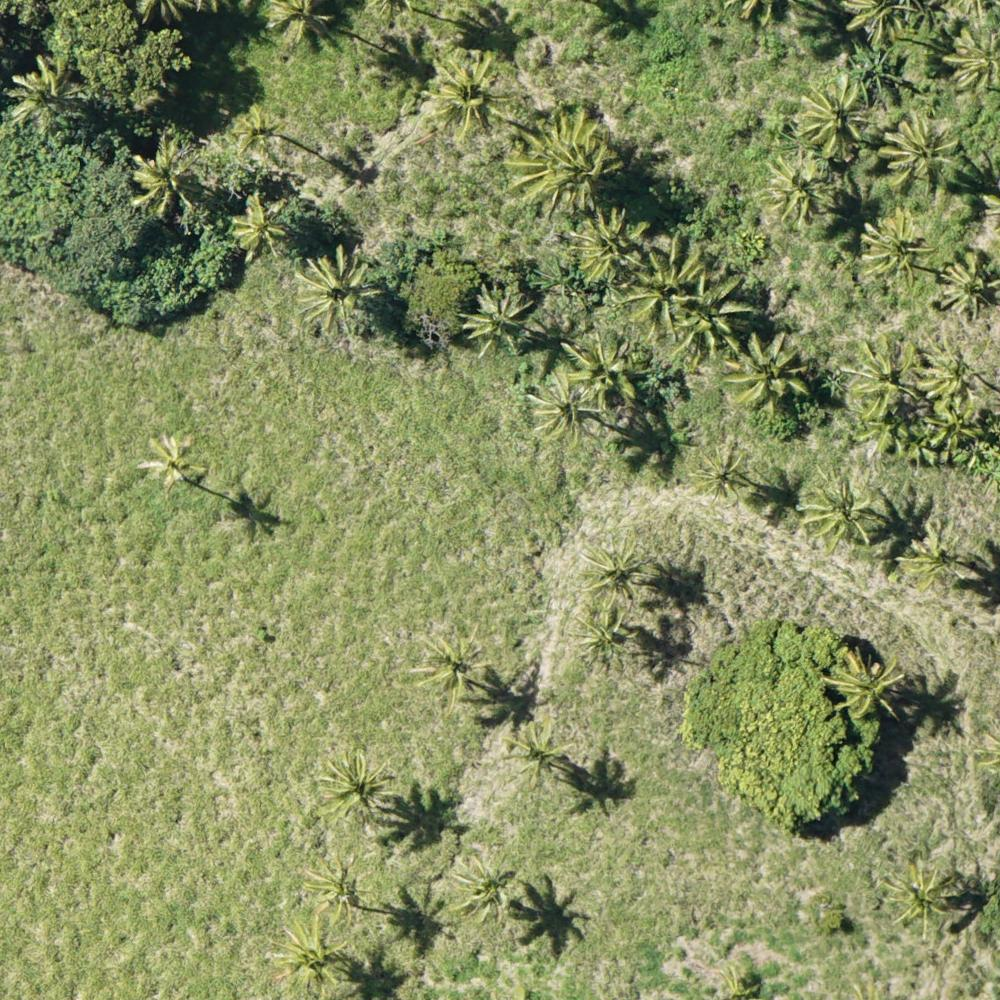Palm: (513, 113, 612, 211), (630, 236, 711, 336), (292, 246, 379, 334), (424, 56, 512, 141), (796, 77, 880, 159), (882, 110, 964, 191), (801, 468, 882, 550), (564, 330, 646, 411), (841, 335, 923, 415), (729, 334, 811, 411), (267, 921, 352, 995), (124, 138, 206, 214), (676, 276, 752, 358), (883, 857, 961, 934), (313, 751, 390, 828), (416, 628, 492, 705), (571, 211, 646, 289), (920, 343, 990, 425), (823, 646, 902, 716), (761, 155, 834, 230), (856, 209, 924, 288), (8, 57, 82, 128), (445, 854, 516, 925), (576, 538, 648, 606), (302, 855, 370, 927), (503, 719, 570, 789), (530, 373, 595, 445), (467, 283, 532, 352), (903, 518, 967, 586), (941, 250, 1000, 322), (568, 607, 637, 667), (940, 30, 1000, 97), (141, 427, 206, 488), (693, 445, 755, 506), (230, 195, 289, 255), (231, 107, 283, 160)
